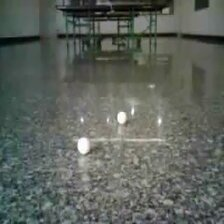w: (76, 137, 91, 155), (116, 112, 126, 123)
